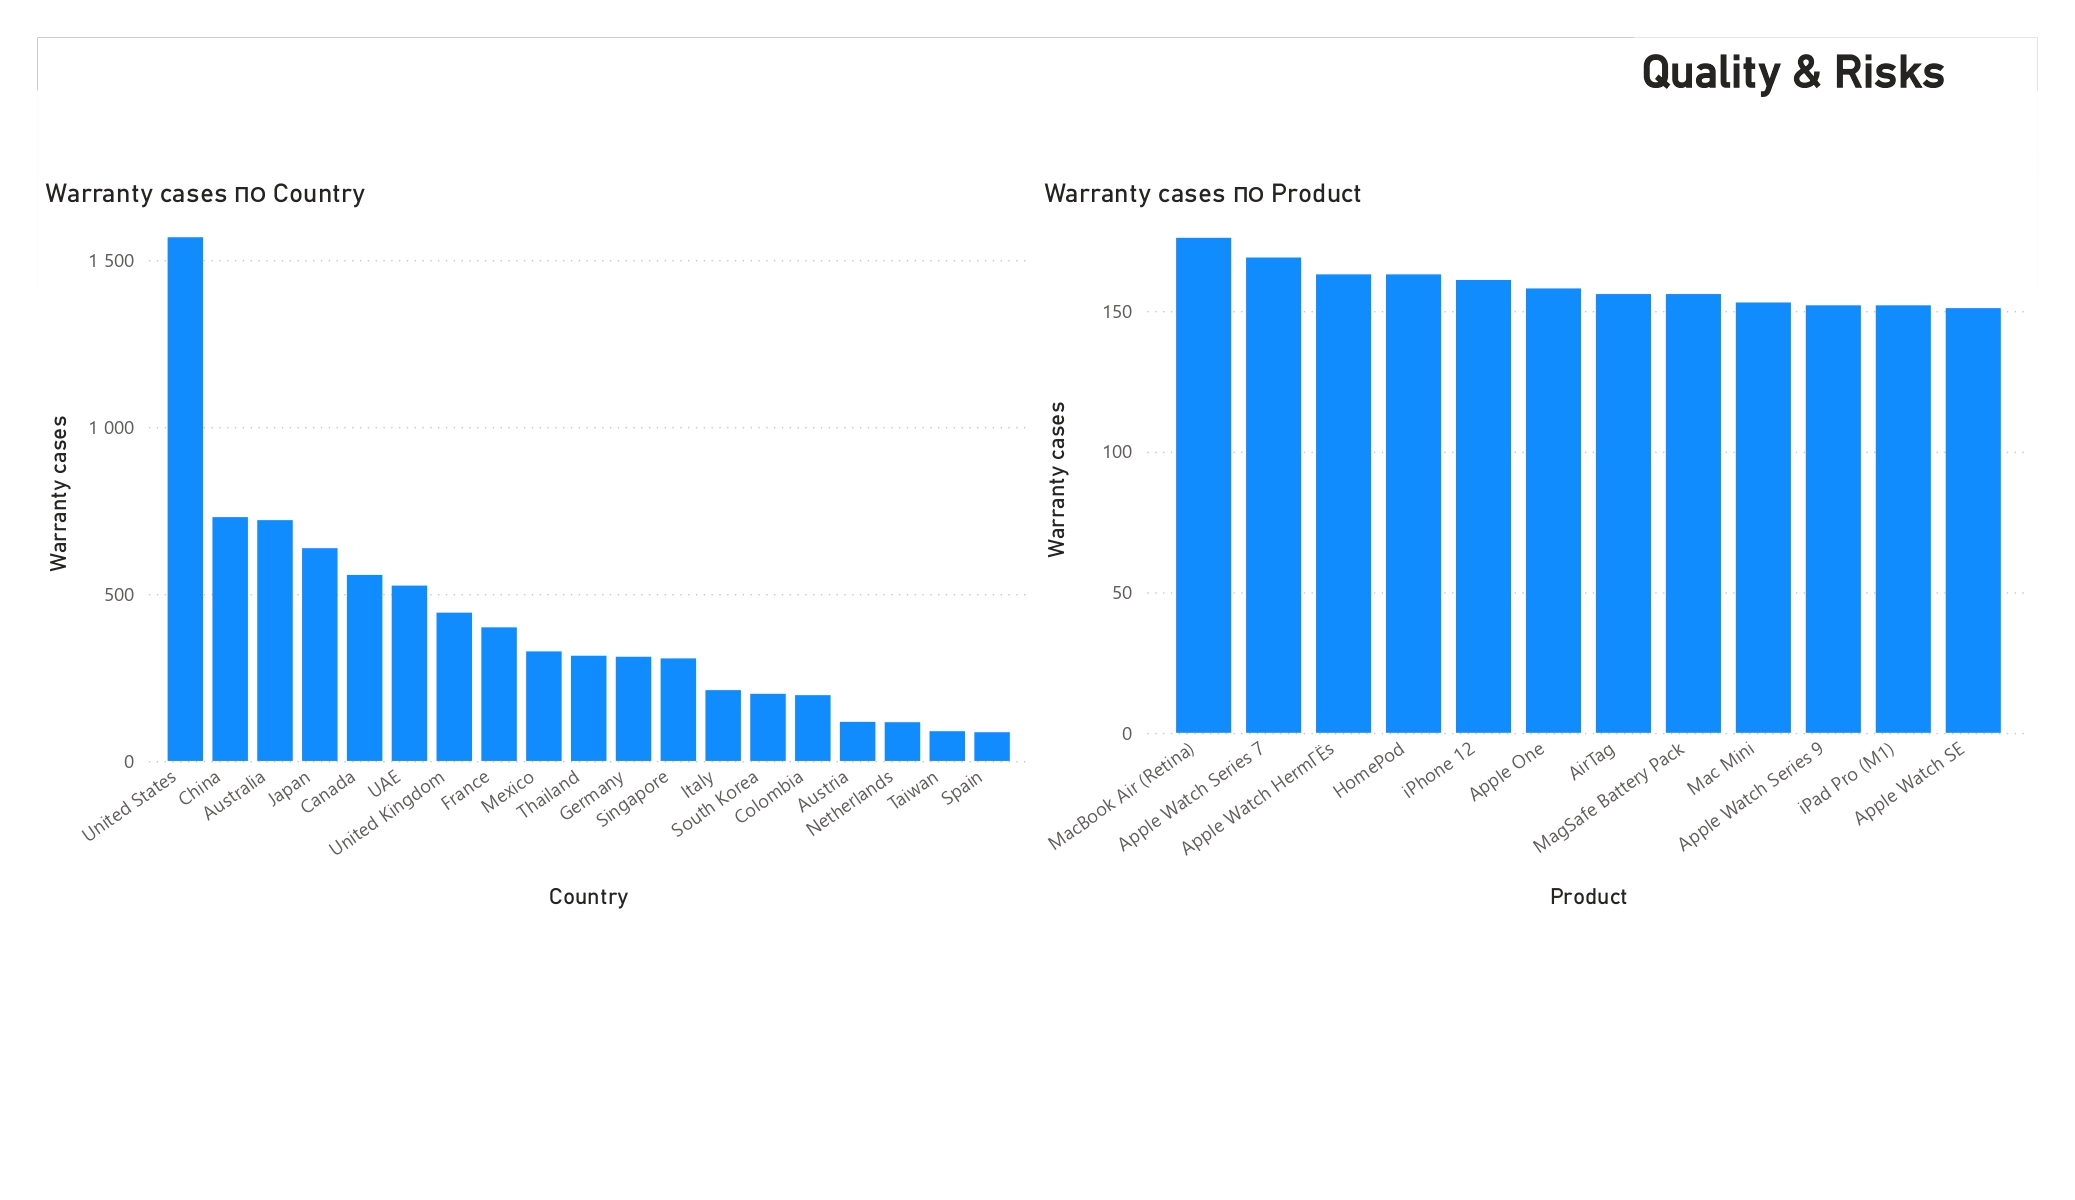

Layout of this report page (visuals, bound fields, positions):
{"tool":"powerbi","page":{"name":"Quality & Risks","canvas":[1280,720],"ordinal":2},"visuals":[{"type":"textbox","box":[1022.3,0,258,70],"z":0},{"type":"columnChart","fields":{"Category":["public analytics_sales_valid.country"],"Y":["CountNonNull(public analytics_sales_valid.repair_status)"]},"box":[0,87.8,639.5,474.8],"z":1000},{"type":"columnChart","fields":{"Y":["CountNonNull(public analytics_sales_valid.repair_status)"],"Category":["public analytics_sales_valid.product_name"]},"box":[639.5,87.8,640.8,474.8],"z":2000}]}

Visuals, with their boxes in screenshot pixels (x1, y1, x2, y2):
textbox: bbox=(1635, 38, 2038, 147)
columnChart - public analytics_sales_valid.country x CountNonNull(public analytics_sales_valid.repair_status): bbox=(38, 175, 1037, 917)
columnChart - CountNonNull(public analytics_sales_valid.repair_status) x public analytics_sales_valid.product_name: bbox=(1037, 175, 2038, 917)
